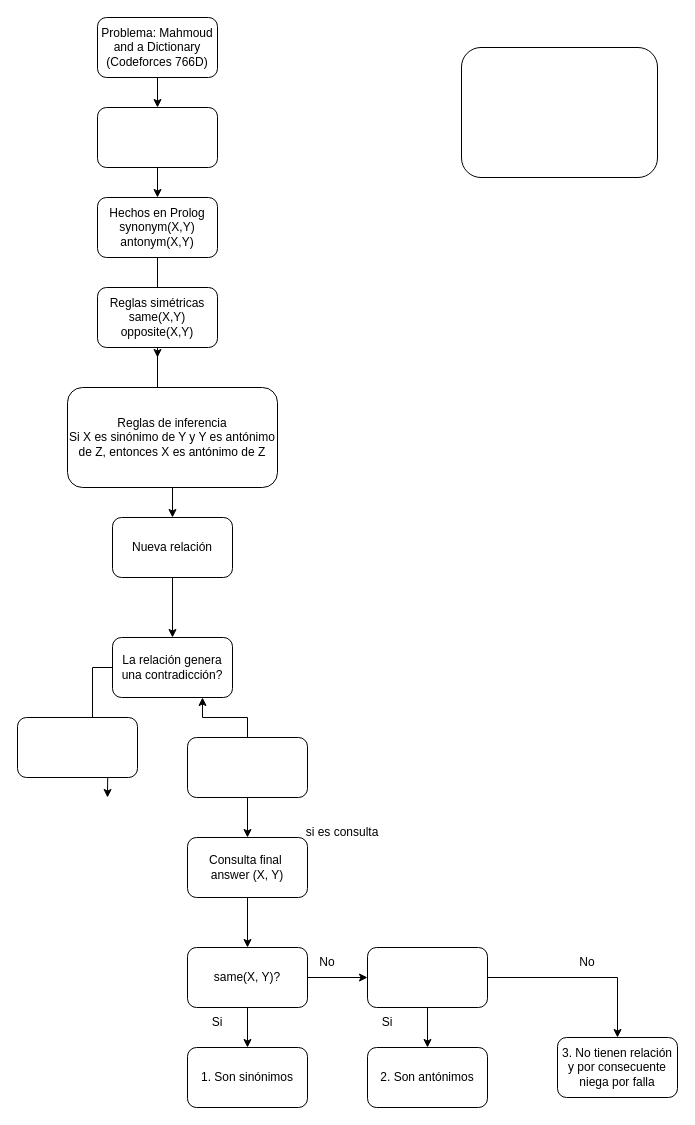
The diagram is 695 pixels wide and 1125 high, and some of its shapes have lost their labels. Each missing label, with the centre of its shape:
"Base de conocimiento Palabras + relaciones" belongs at point 157,137.
"Ejemplo: love = like like opuesto a hate love opuesto a hate love = hate--NO" belongs at point 559,112.
"No Acepta la relación y su respuesta es YES" belongs at point 247,767.
"opposite (X, Y)?" belongs at point 427,977.
"Si Rechaza la relación y su respuesta es NO" belongs at point 77,747.
